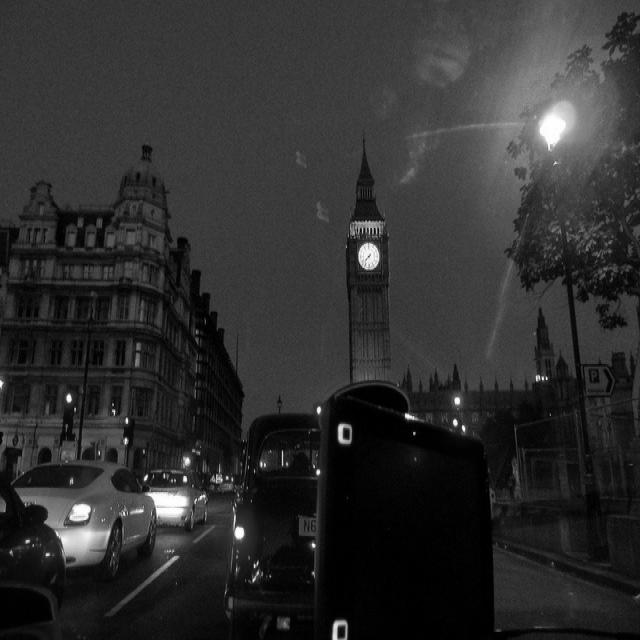car: (221, 409, 319, 639), (11, 456, 161, 573), (0, 472, 66, 628), (141, 468, 206, 529)
pole: (557, 187, 607, 562)
